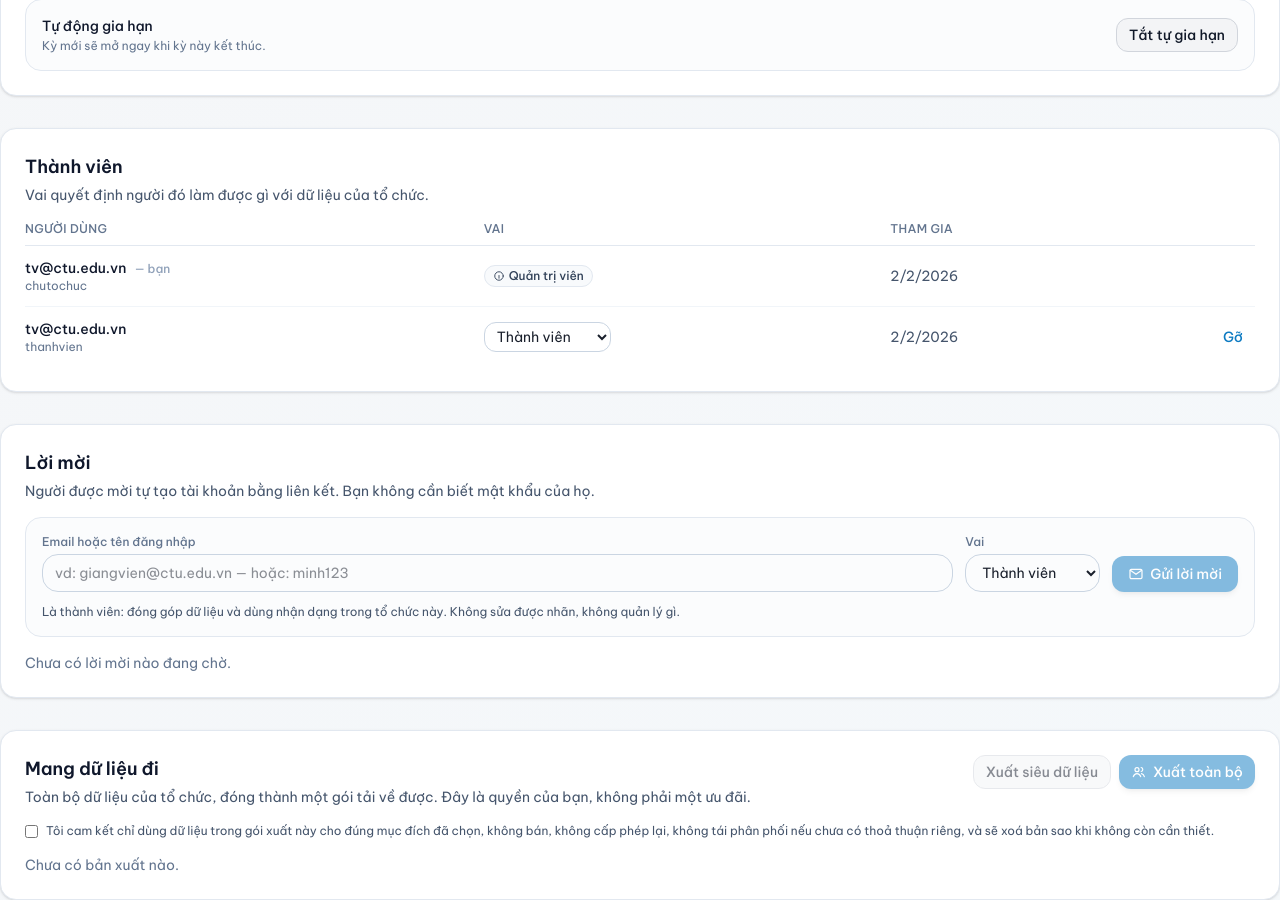
Scenario: Lời mời › KHÔNG nói đã gửi thư khi máy chủ báo gửi hỏng
(page scrolled)
Type "moi@ctu.edu.vn" into the field with placeholder "vd: giangvien@ctu.edu.vn — hoặc: minh123" at (498,573), box x1=42 y1=554 x2=953 y2=592
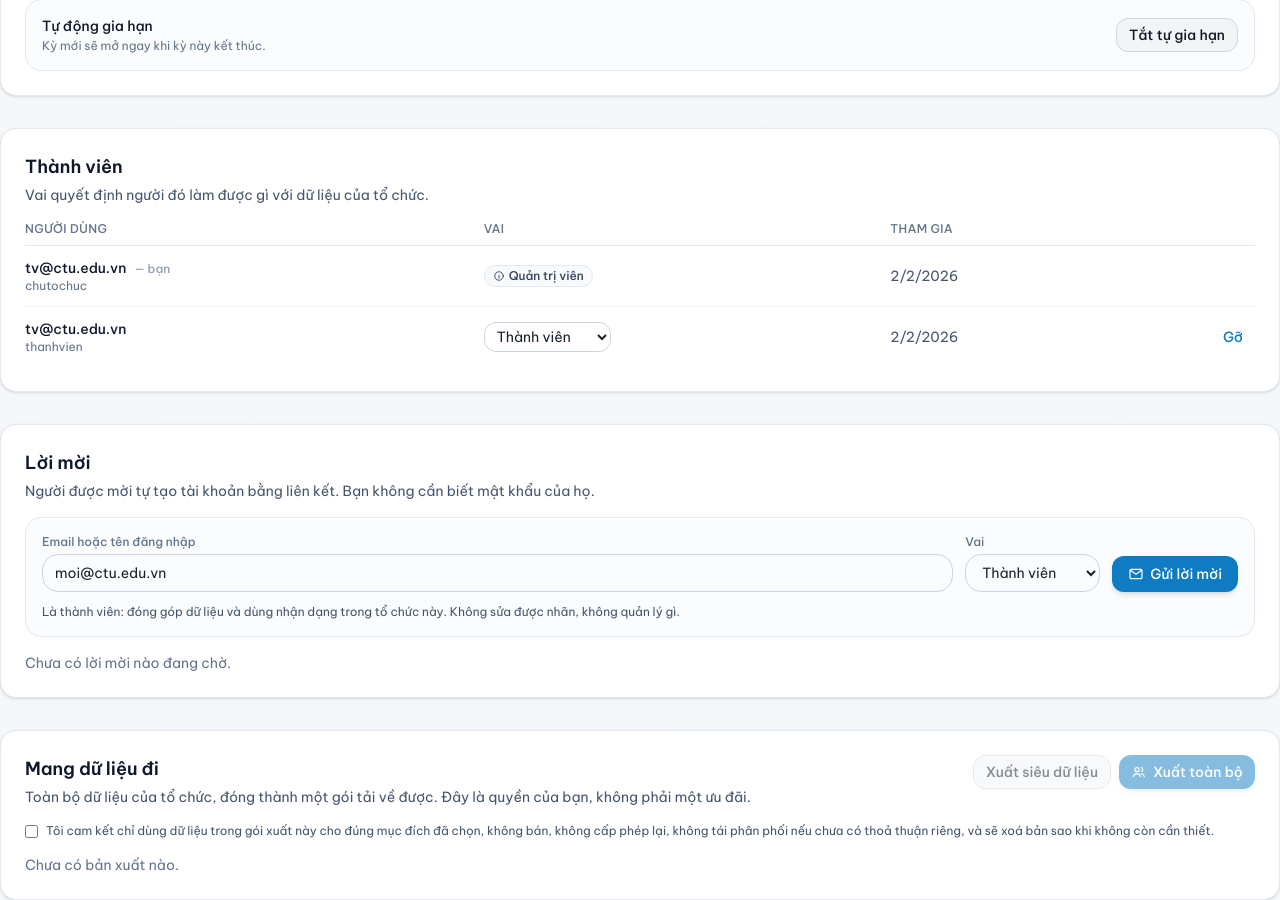
Click the button "Gửi lời mời" at (1175,574), box x1=1112 y1=556 x2=1238 y2=592
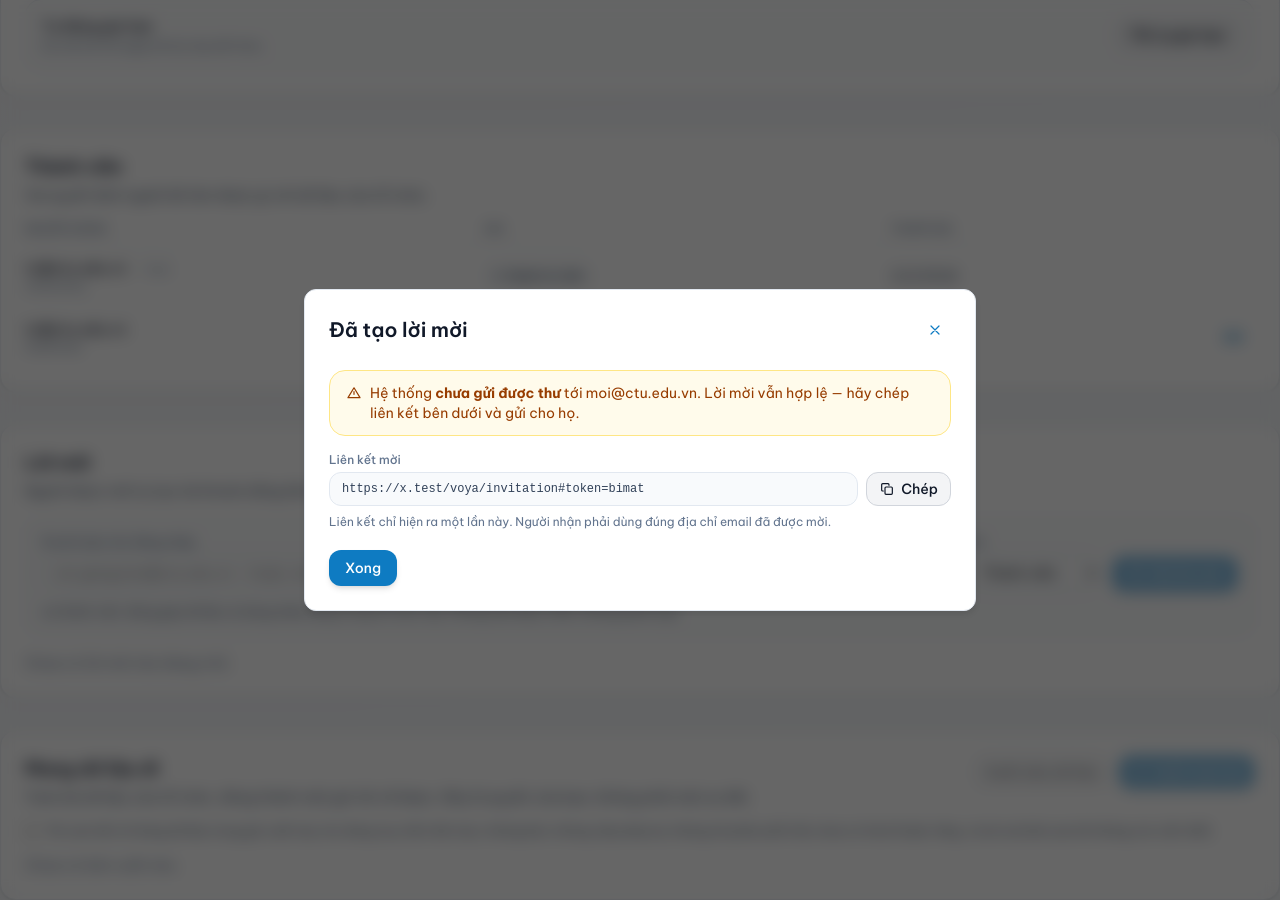
Result: the text "chưa gửi được thư" is shown at x1=435 y1=384 x2=561 y2=402
Result: the text "https://x.test/voya/invitation#token=bimat" is shown at x1=329 y1=472 x2=858 y2=506
